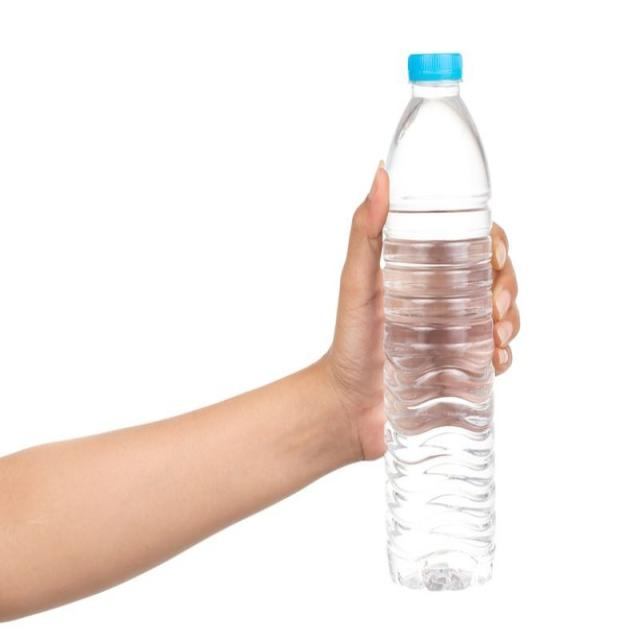bottle: (378, 52, 498, 589)
